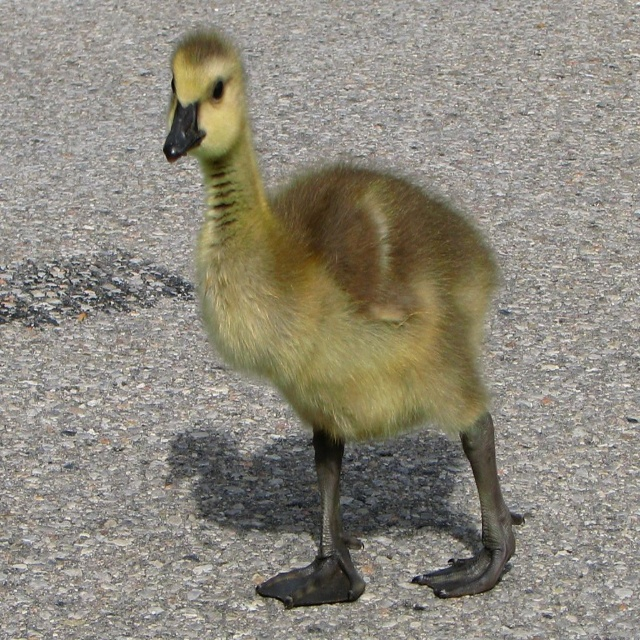Goose: (166, 32, 522, 610)
